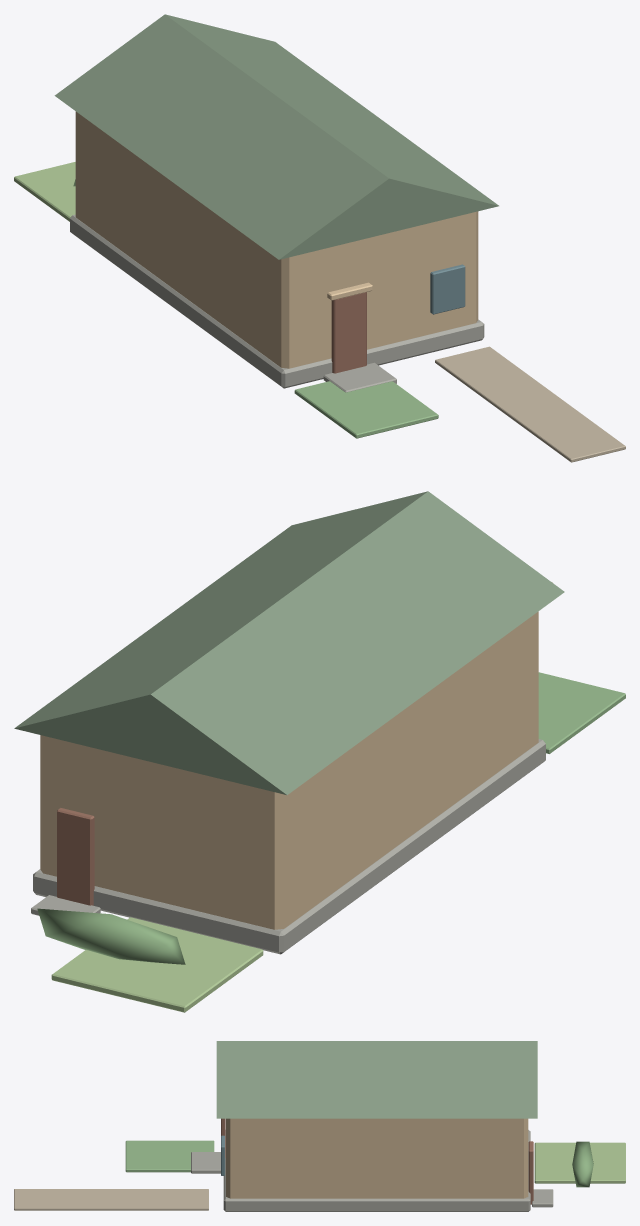
The model's file is pine_ridge_cottage_v1.lod1.glb.
The picture shows the model from 3 angles, top to bottom: view 1: azimuth 30°, elevation 25°; view 2: azimuth 150°, elevation 25°; view 3: azimuth 270°, elevation 25°; orthographic projection. The views are drawn at different scales.
Visible parts, largest first — view 1: MainRoof, MainBody, Driveway, StonePlinth, FrontGreenVerge, PublicDoor, RearYardPatch, FrontWindow1, PublicStep; view 2: MainRoof, MainBody, StonePlinth, RearYardPatch, RearHedge, FrontGreenVerge, ServiceDoor, ServiceStep; view 3: MainRoof, MainBody, StonePlinth, Driveway, RearYardPatch, FrontGreenVerge, RearHedge, PublicStep, ServiceStep, ServiceDoor.
Boxes of the visible parts, <box> form: MainRoof: <box>54,14,498,259</box>; MainBody: <box>75,111,478,368</box>; Driveway: <box>435,346,625,462</box>; StonePlinth: <box>70,214,484,388</box>; FrontGreenVerge: <box>294,381,438,438</box>; PublicDoor: <box>331,292,366,373</box>; RearYardPatch: <box>14,162,75,221</box>; FrontWindow1: <box>430,264,465,314</box>; PublicStep: <box>323,362,396,392</box>; MainRoof: <box>14,491,564,794</box>; MainBody: <box>40,611,538,929</box>; StonePlinth: <box>33,739,545,954</box>; RearYardPatch: <box>51,917,263,1012</box>; RearHedge: <box>37,908,185,964</box>; FrontGreenVerge: <box>538,672,625,753</box>; ServiceDoor: <box>57,808,94,905</box>; ServiceStep: <box>31,895,100,915</box>; MainRoof: <box>216,1041,537,1118</box>; MainBody: <box>226,1118,528,1198</box>; StonePlinth: <box>223,1130,530,1211</box>; Driveway: <box>14,1189,208,1210</box>; RearYardPatch: <box>534,1142,625,1183</box>; FrontGreenVerge: <box>125,1140,214,1172</box>; RearHedge: <box>572,1141,593,1187</box>; PublicStep: <box>191,1152,220,1173</box>; ServiceStep: <box>532,1189,553,1207</box>; ServiceDoor: <box>528,1141,533,1204</box>.
Bounding box in the file's own units: 7 × 5.77 × 23.49.
